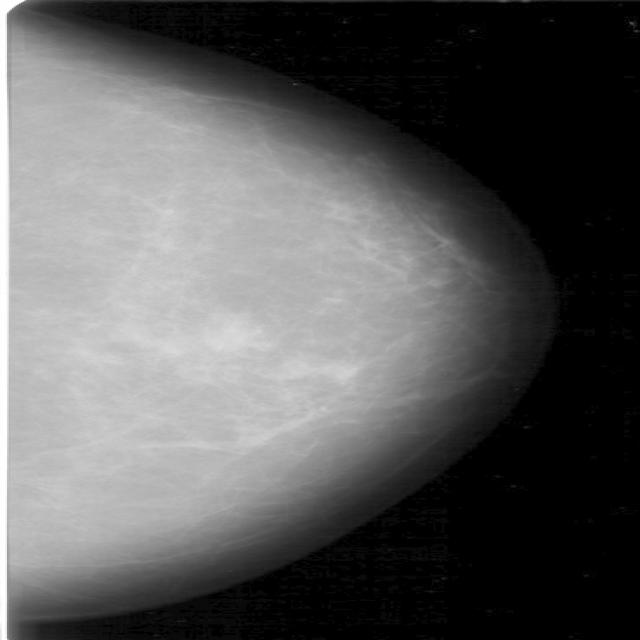tumour: (200, 314, 258, 352)
